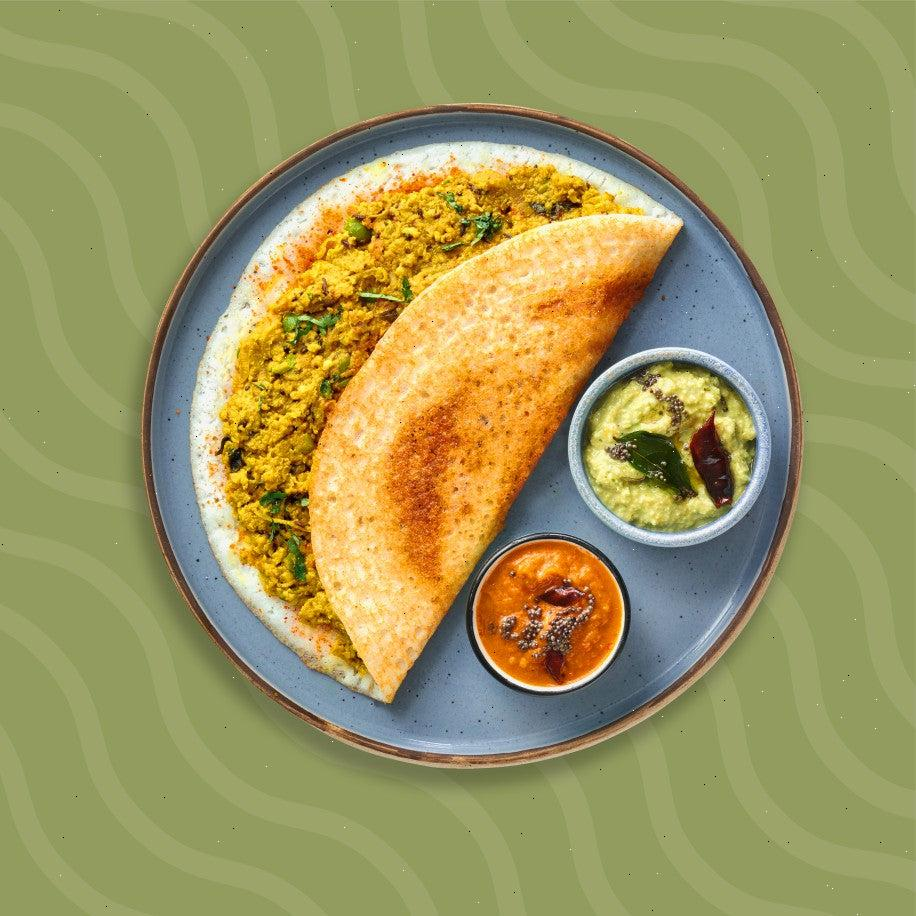coconut chutney: (476, 518, 622, 702), (606, 373, 759, 529)
dosa: (211, 173, 534, 652)
